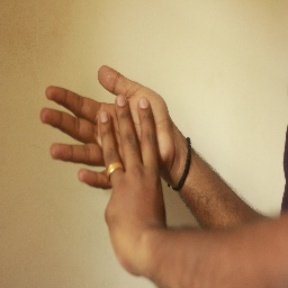M: (39, 63, 188, 213)
